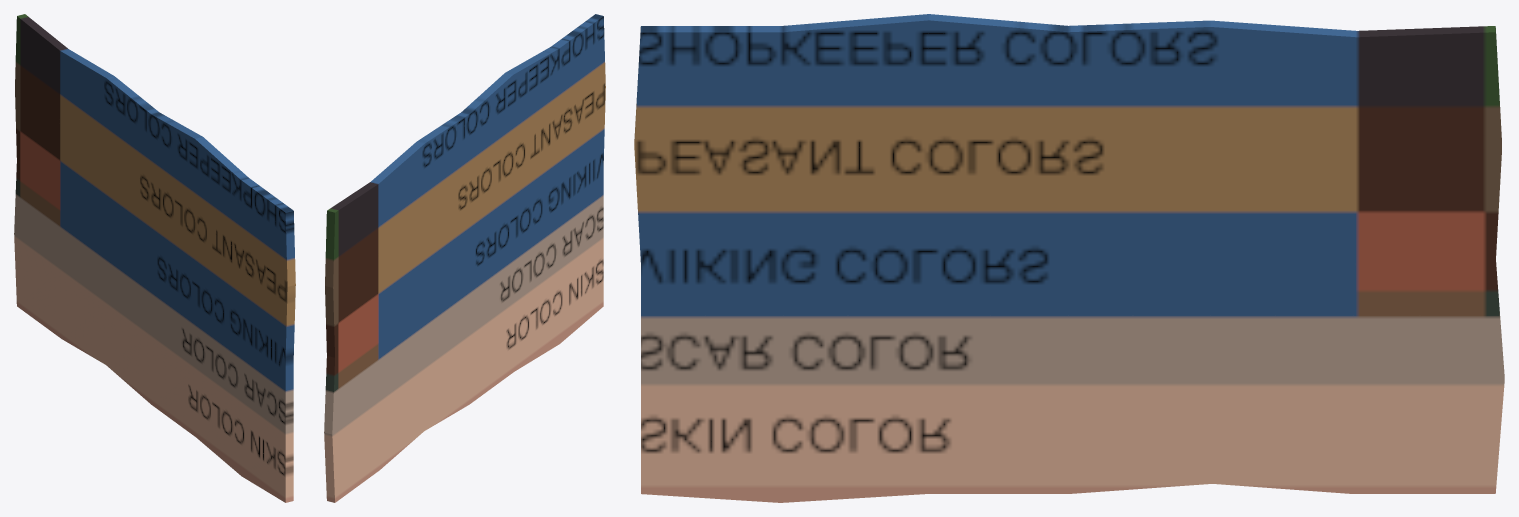
Rendered from SM_Flag_British_01.glb.
3 renders of one model, left to right at view 1: azimuth 30°, elevation 25°; view 2: azimuth 150°, elevation 25°; view 3: azimuth 270°, elevation 25°, orthographic. The views are drawn at different scales.
Visible parts, largest first — view 1: SM_Flag_British_01_00; view 2: SM_Flag_British_01_00; view 3: SM_Flag_British_01_00.
Part boxes in pixels (x1,y1,x2,y2): SM_Flag_British_01_00: (14,14,295,502); SM_Flag_British_01_00: (324,14,605,502); SM_Flag_British_01_00: (634,14,1504,502).
Size of the model in its own units: 0.0403 by 1.42 by 2.32.
1 material, 1 textured.
